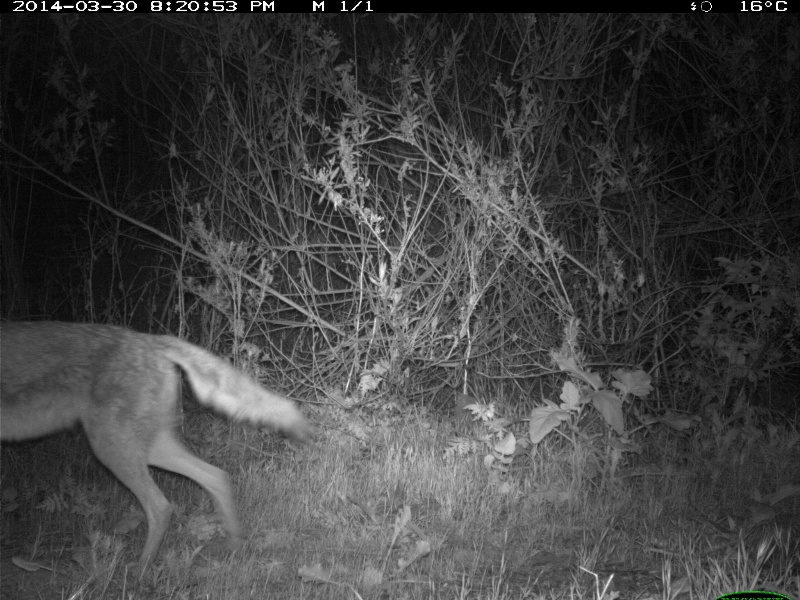coyote: (1, 316, 318, 582)
